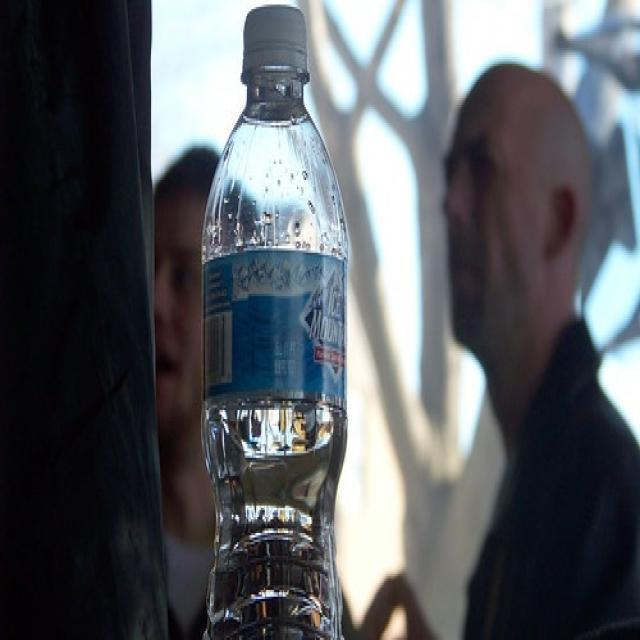plastic_bottle: (200, 5, 350, 640)
